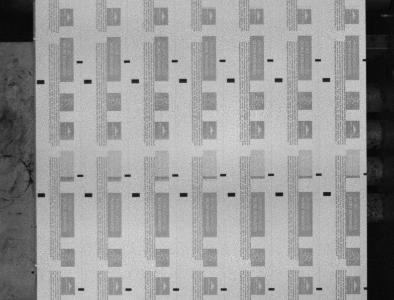backgroundclutter: (31, 271, 35, 274)
incorrect qblock: (364, 287, 368, 290), (364, 173, 368, 175), (363, 59, 367, 61)
qblock: (179, 78, 188, 83), (180, 192, 188, 197), (228, 192, 236, 197), (84, 79, 92, 84), (322, 78, 331, 82), (132, 193, 140, 197), (276, 192, 284, 196), (37, 80, 45, 84), (323, 192, 331, 196), (131, 79, 139, 83), (275, 78, 283, 82), (37, 193, 45, 197), (227, 78, 235, 82), (85, 193, 92, 197)
smallqblock: (172, 59, 178, 63), (125, 288, 132, 291), (316, 287, 323, 290), (76, 60, 83, 63), (77, 174, 84, 177), (220, 173, 227, 176), (172, 174, 179, 177), (268, 173, 275, 176), (269, 288, 275, 291), (173, 288, 179, 291), (78, 288, 84, 291), (221, 288, 227, 291), (124, 60, 130, 63), (220, 59, 226, 62), (268, 59, 274, 62), (125, 174, 131, 177), (316, 173, 322, 176), (315, 59, 321, 61)
